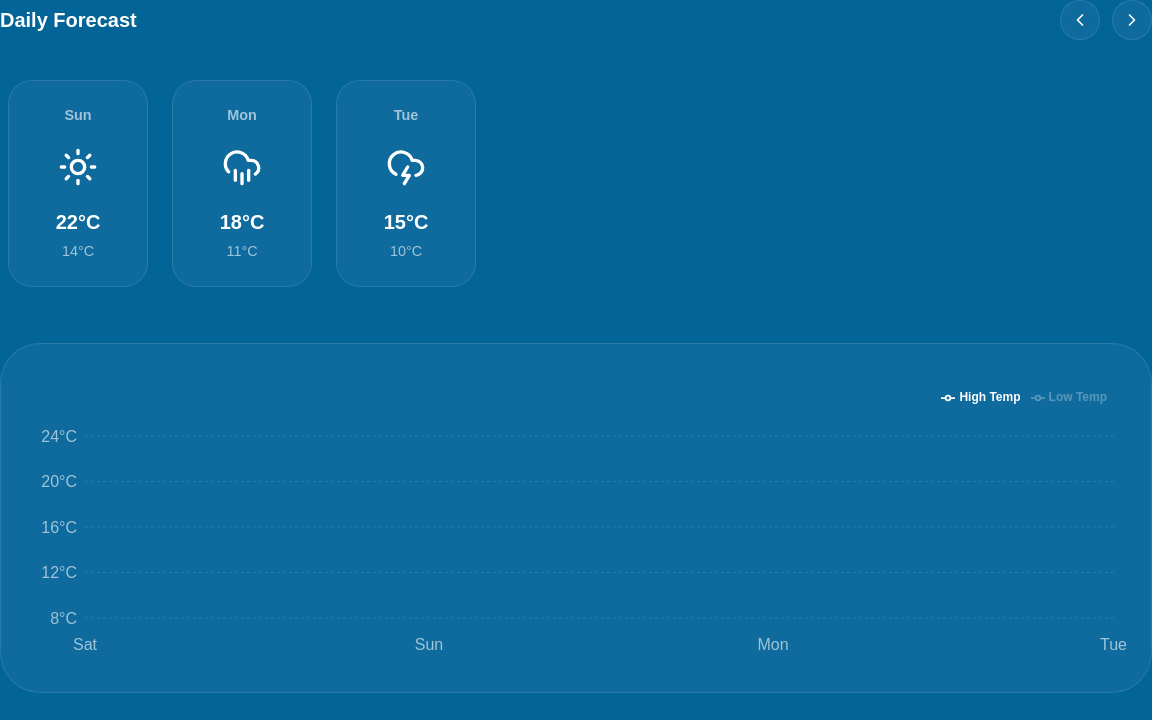
Test: DailyForecast › day selection › closes the modal when Escape is pressed
This screenshot has width=1152, height=720.
Step 1. Click the button "Sun 22°C 14°C" → (78, 184), box [8, 80, 148, 287]
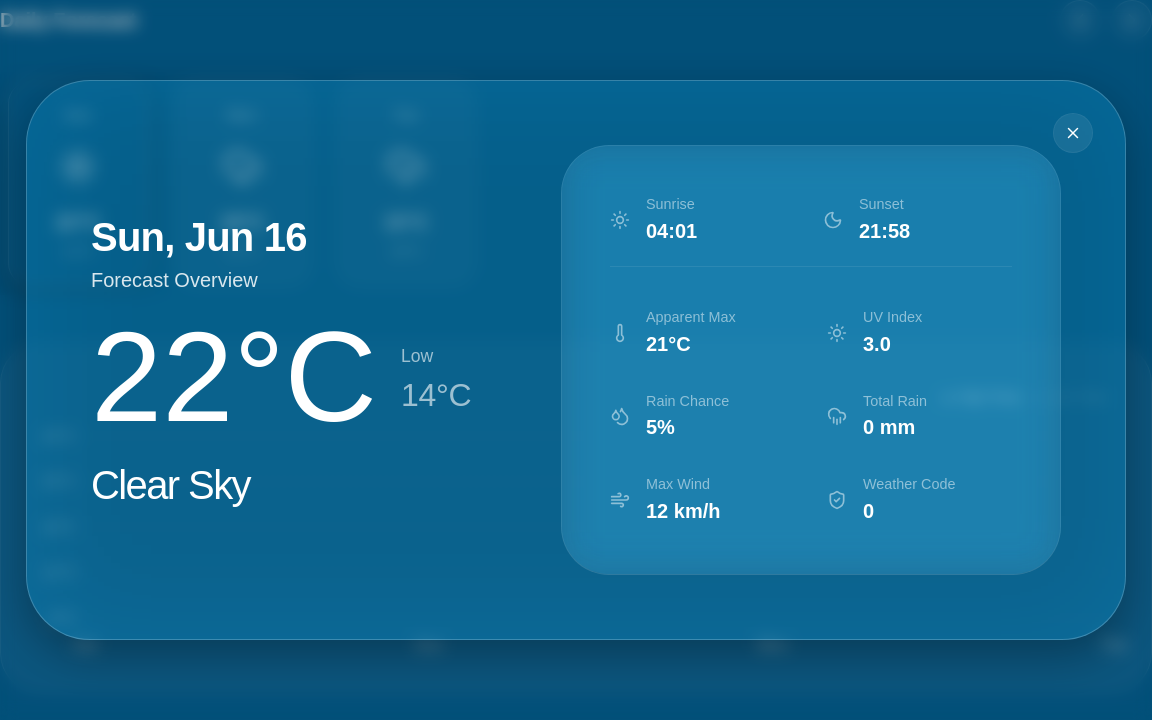
Step 2. Press Escape
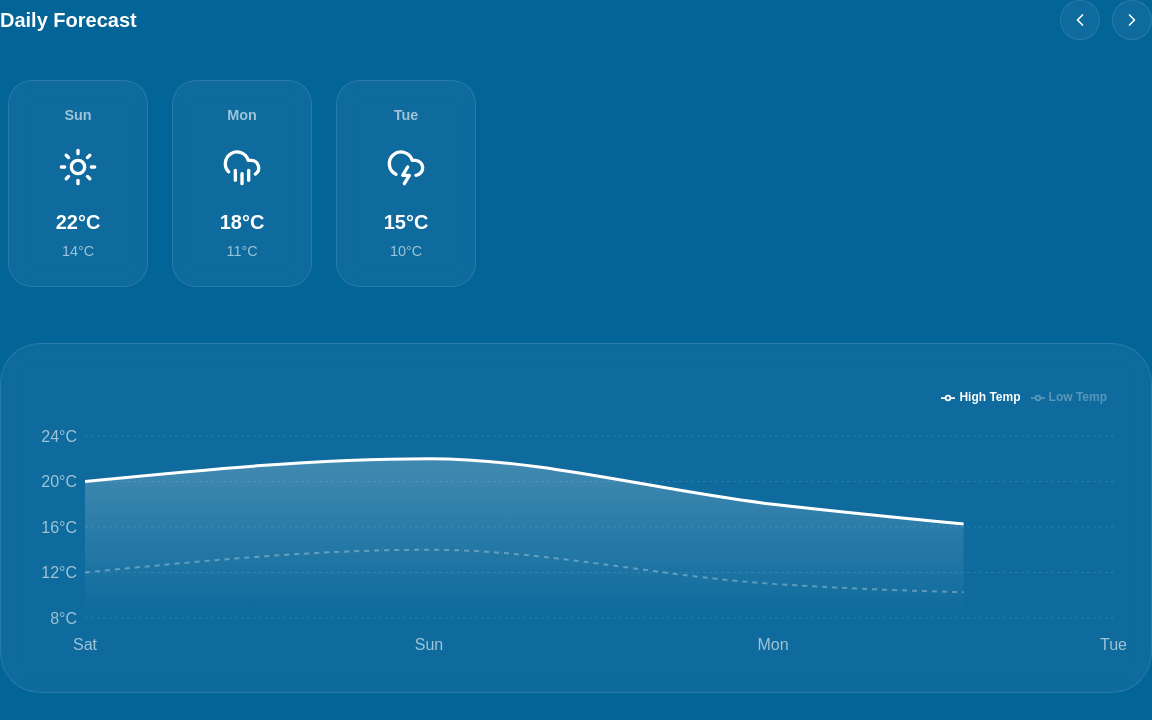
Expected: the dialog is gone
